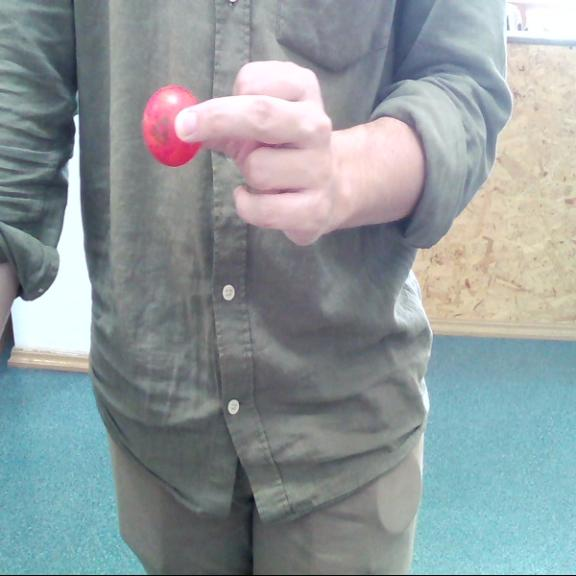ball: (144, 86, 200, 165)
